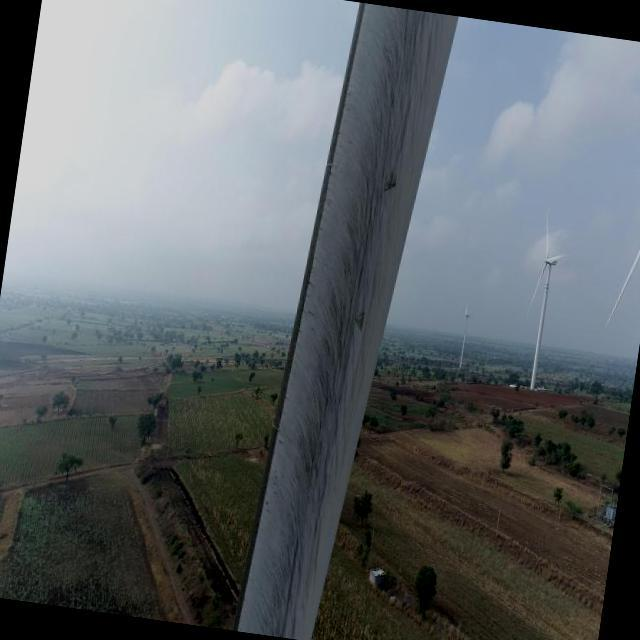Dirt: (236, 0, 462, 639)
